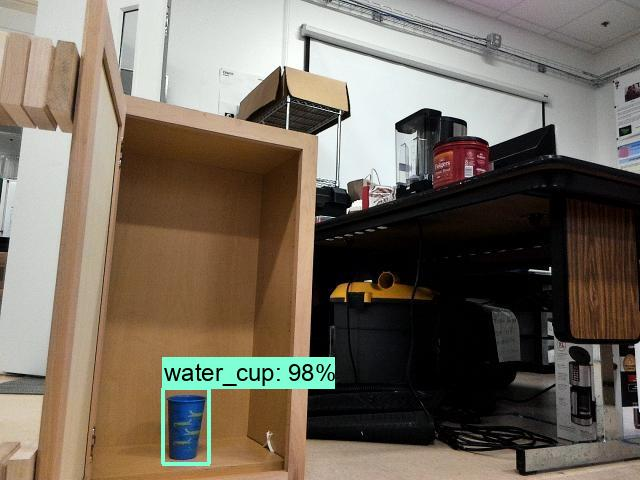water_cup: (163, 387, 213, 462)
